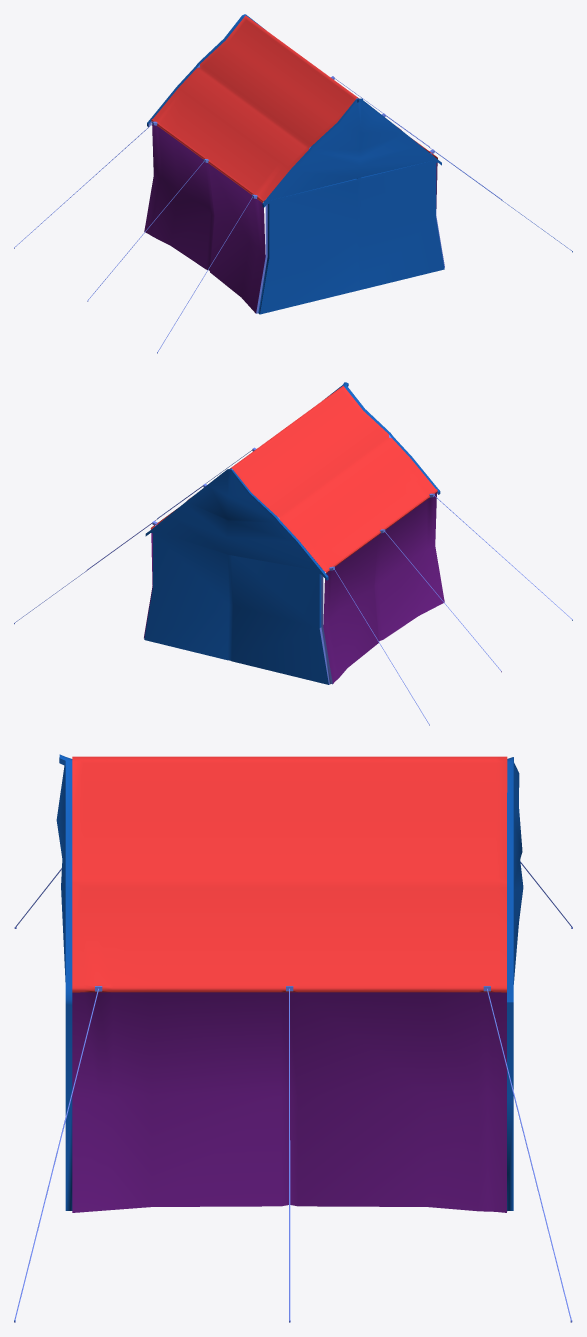
The model's file is tent_1.FBX.
The picture shows the model from 3 angles, top to bottom: view 1: azimuth 30°, elevation 25°; view 2: azimuth 150°, elevation 25°; view 3: azimuth 270°, elevation 25°; orthographic projection. The views are drawn at different scales.
Visible parts, largest first — view 1: Base; view 2: Base; view 3: Base.
Part boxes in pixels (x1=…): Base: x1=14, y1=14, x2=572, y2=353; Base: x1=14, y1=382, x2=572, y2=725; Base: x1=14, y1=754, x2=572, y2=1322.
Size of the model in its own units: 216 by 96.26 by 129.
